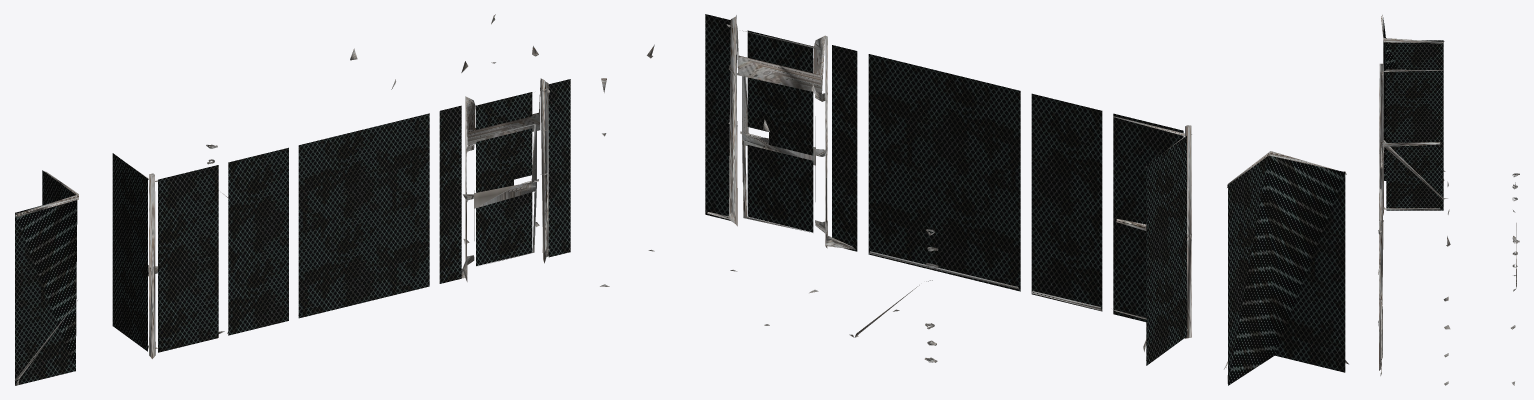
File: modular_chainlink_fence_lo.glb
The picture shows the model from 3 angles, left to right: view 1: azimuth 30°, elevation 25°; view 2: azimuth 150°, elevation 25°; view 3: azimuth 270°, elevation 25°; orthographic projection. The views are drawn at different scales.
Parts seen in each view (by area): view 1: modular_chainlink_fence_double, modular_chainlink_fence_corner_outer, modular_chainlink_fence_door_frame, modular_chainlink_fence_corner_inner, modular_chainlink_fence, modular_chainlink_fence_door_gate; view 2: modular_chainlink_fence_double, modular_chainlink_fence_corner_inner, modular_chainlink_fence_corner_outer, modular_chainlink_fence_door_frame, modular_chainlink_fence, modular_chainlink_fence_door_gate; view 3: modular_chainlink_fence_corner_outer, modular_chainlink_fence_corner_inner, modular_chainlink_fence_door_frame.
Boxes of the visible parts, x1=… form: modular_chainlink_fence_double: x1=298, y1=113, x2=429, y2=318; modular_chainlink_fence_corner_outer: x1=112, y1=153, x2=224, y2=358; modular_chainlink_fence_door_frame: x1=439, y1=78, x2=570, y2=283; modular_chainlink_fence_corner_inner: x1=15, y1=170, x2=78, y2=385; modular_chainlink_fence: x1=227, y1=147, x2=288, y2=335; modular_chainlink_fence_door_gate: x1=474, y1=124, x2=536, y2=266; modular_chainlink_fence_double: x1=868, y1=54, x2=1020, y2=291; modular_chainlink_fence_corner_inner: x1=1224, y1=151, x2=1348, y2=385; modular_chainlink_fence_corner_outer: x1=1113, y1=113, x2=1191, y2=365; modular_chainlink_fence_door_frame: x1=705, y1=14, x2=857, y2=251; modular_chainlink_fence: x1=1031, y1=93, x2=1102, y2=311; modular_chainlink_fence_door_gate: x1=742, y1=76, x2=815, y2=232; modular_chainlink_fence_corner_outer: x1=1379, y1=63, x2=1447, y2=220; modular_chainlink_fence_corner_inner: x1=1381, y1=15, x2=1445, y2=180; modular_chainlink_fence_door_frame: x1=1378, y1=188, x2=1383, y2=375.
Size of the model in its own units: 8.03 by 2.52 by 2.13.
2 materials, 2 textured.
